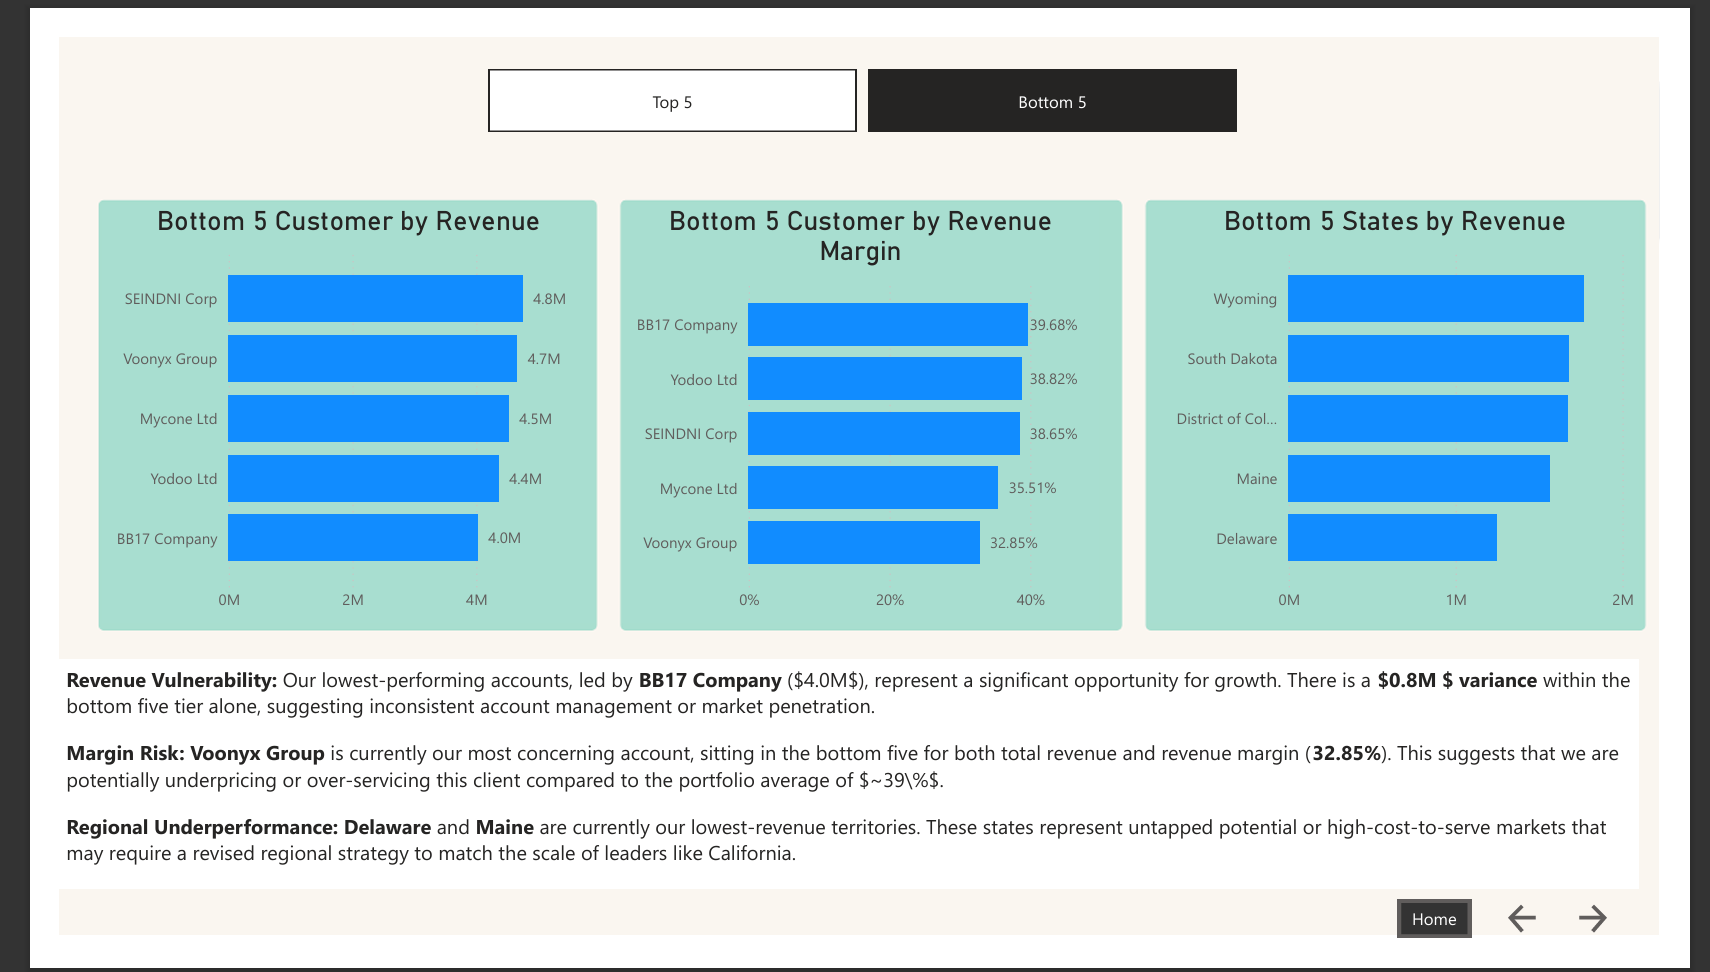

The dashboard page shown, as its layout file describes it:
{"tool":"powerbi","page":{"name":"Customer Insights","canvas":[1280,720],"ordinal":3},"visuals":[{"type":"bookmarkNavigator","box":[342.9,24.9,599.6,49.8],"z":4000},{"type":"barChart","title":"Bottom 5 Customer by Revenue","fields":{"Category":["Sales_data(EDA Exported).customer_names"],"Y":["Query1.Total Revenue"]},"box":[33.6,134.5,394.4,333.9],"z":5000},{"type":"barChart","title":"Bottom 5 Customer by Revenue Margin","fields":{"Category":["Sales_data(EDA Exported).customer_names"],"Y":["Query1.Profit Margin %"]},"box":[450.4,134.5,381,333.9],"z":6000},{"type":"barChart","title":"Bottom 5 States by Revenue","fields":{"Category":["Sales_data(EDA Exported).state_name"],"Y":["Query1.Total Revenue"]},"box":[871.7,134.5,392.2,333.9],"z":7000},{"type":"textbox","box":[0,497.5,1263.9,183.8],"z":8000},{"type":"actionButton","box":[1210.4,689,49,31],"z":9000},{"type":"actionButton","box":[1155.4,689,50,31],"z":10000},{"type":"actionButton","box":[1070.3,689,59,31],"z":11000}]}

Visuals, with their boxes in screenshot pixels (x1, y1, x2, y2), scaled from the page's 1280x720 canvas onto the 1710x972 screenshot:
bookmarkNavigator: 458:34:1259:101
"Bottom 5 Customer by Revenue" barChart: 45:182:572:632
"Bottom 5 Customer by Revenue Margin" barChart: 602:182:1111:632
"Bottom 5 States by Revenue" barChart: 1165:182:1688:632
textbox: 0:672:1688:920
actionButton: 1617:930:1682:971
actionButton: 1544:930:1610:971
actionButton: 1430:930:1509:971
